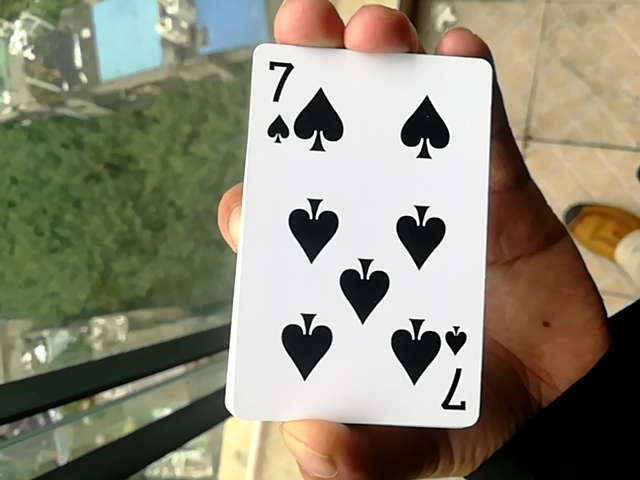ht 7: (237, 33, 477, 442)
